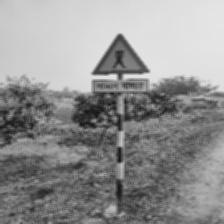Market-in-front: (90, 33, 151, 93)
